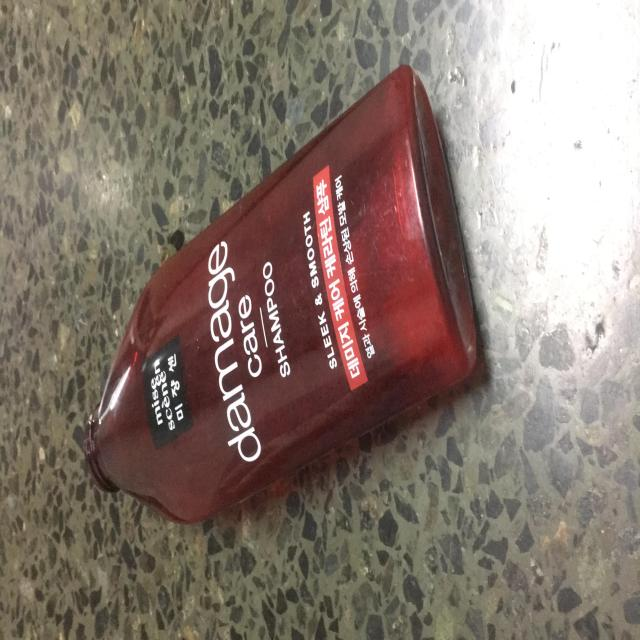bottle: (83, 62, 478, 526)
